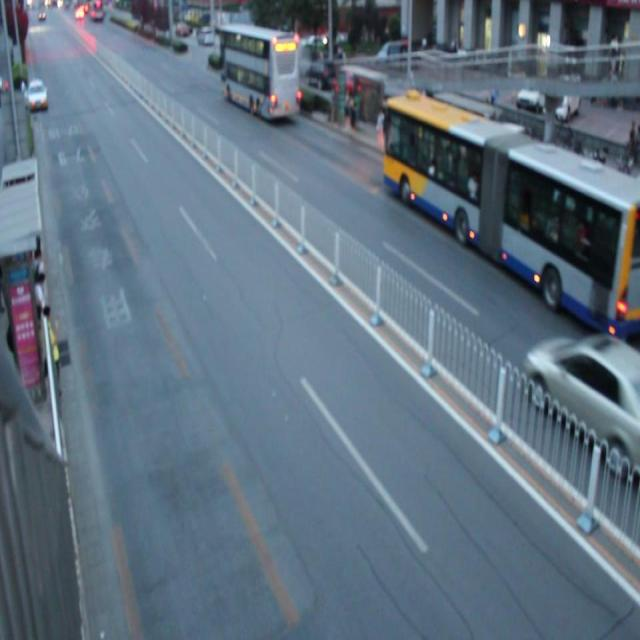car: (522, 328, 640, 477)
van: (382, 97, 640, 321), (219, 21, 300, 121)
